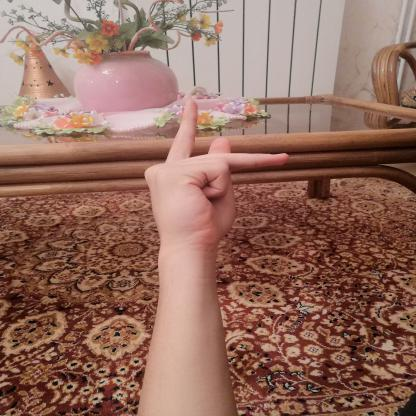DHAA: (132, 92, 300, 256)
